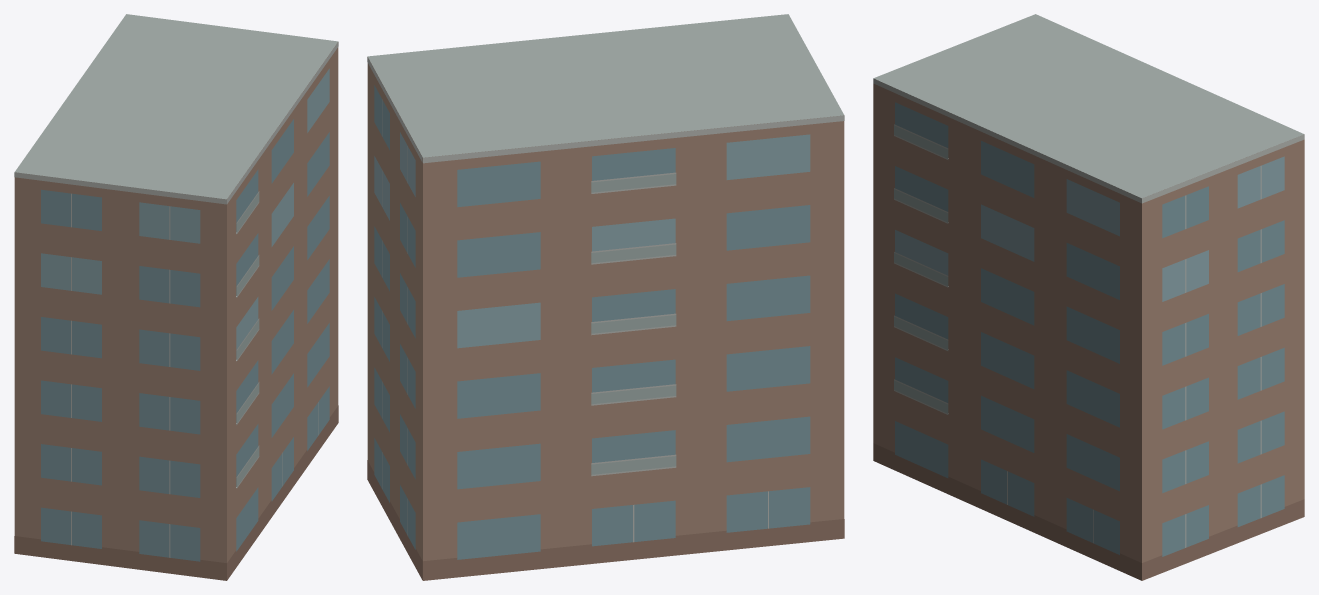
Rendered from survey-upis-32937989.glb.
The picture shows the model from 3 angles, left to right: view 1: azimuth 30°, elevation 25°; view 2: azimuth 150°, elevation 25°; view 3: azimuth 270°, elevation 25°; orthographic projection. The views are drawn at different scales.
Parts seen in each view (by area): view 1: survey-upis-32937989.tmp; view 2: survey-upis-32937989.tmp; view 3: survey-upis-32937989.tmp.
Part boxes in pixels (<box>): survey-upis-32937989.tmp: <box>14,14,338,580</box>; survey-upis-32937989.tmp: <box>367,14,844,580</box>; survey-upis-32937989.tmp: <box>873,14,1304,580</box>.
Bounding box in the file's own units: 18.93 × 18.3 × 18.71.
